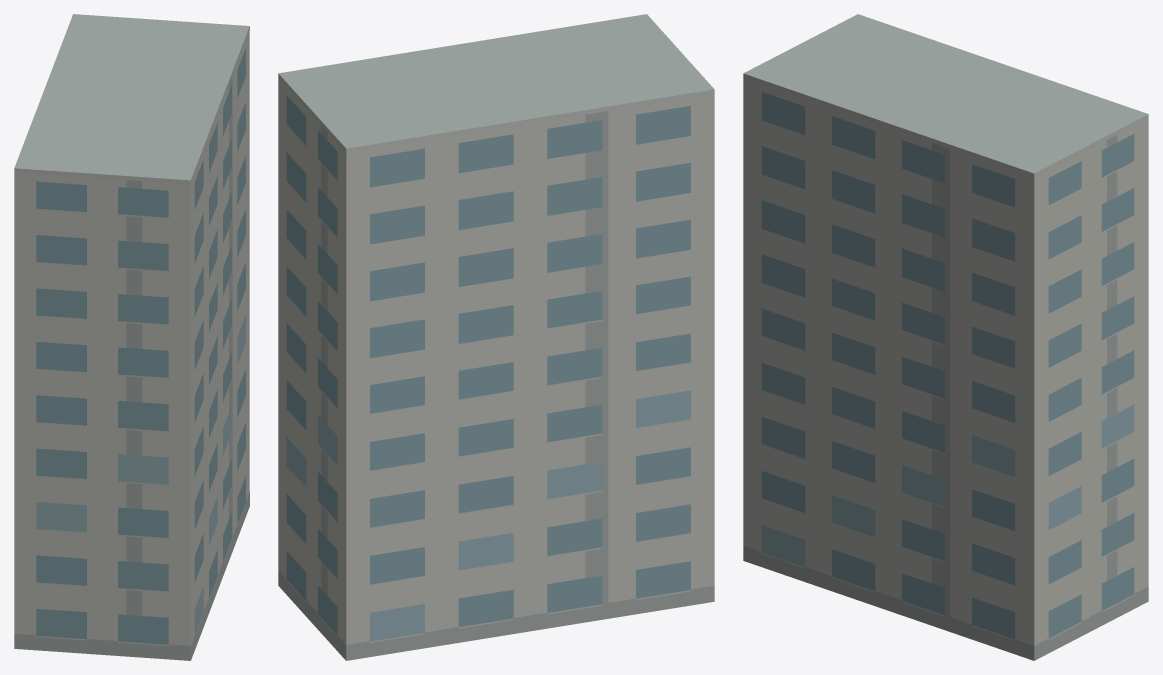
File: residential-256bc1fe-f27c-4f43-98af-966791988626.glb
3 views of the same model, side by side, from view 1: azimuth 30°, elevation 25°; view 2: azimuth 150°, elevation 25°; view 3: azimuth 270°, elevation 25° (orthographic). The views are drawn at different scales.
Visible parts, largest first — view 1: residential-256bc1fe-f27c-4f43-98af-966791988626.tmp; view 2: residential-256bc1fe-f27c-4f43-98af-966791988626.tmp; view 3: residential-256bc1fe-f27c-4f43-98af-966791988626.tmp.
Part boxes in pixels (x1=…): residential-256bc1fe-f27c-4f43-98af-966791988626.tmp: x1=14, y1=14, x2=249, y2=660; residential-256bc1fe-f27c-4f43-98af-966791988626.tmp: x1=278, y1=14, x2=714, y2=660; residential-256bc1fe-f27c-4f43-98af-966791988626.tmp: x1=743, y1=14, x2=1148, y2=660.
Size of the model in its own units: 19.28 by 27.45 by 20.7.
